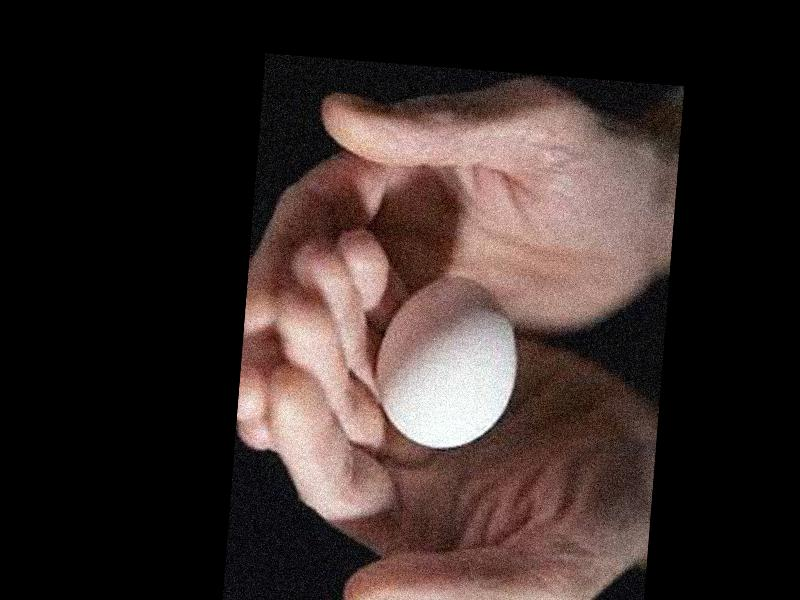Eggs: (372, 273, 524, 454)
